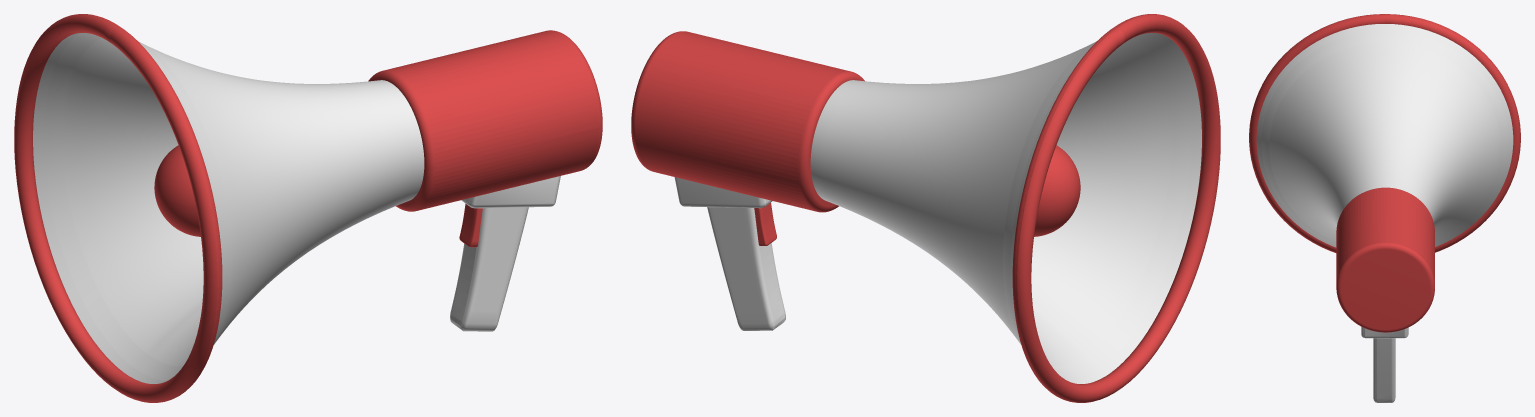
File: megaphone.glb
3 views of the same model, side by side, from view 1: azimuth 30°, elevation 25°; view 2: azimuth 150°, elevation 25°; view 3: azimuth 270°, elevation 25° (orthographic). The views are drawn at different scales.
Visible parts, largest first — view 1: 3DSMeshMatrix.005, 3DSMeshMatrix.004, 3DSMeshMatrix.006, 3DSMeshMatrix.003, 3DSMeshMatrix.001, 3DSMeshMatrix.002, 3DSMeshMatrix; view 2: 3DSMeshMatrix.005, 3DSMeshMatrix.004, 3DSMeshMatrix.006, 3DSMeshMatrix.003, 3DSMeshMatrix.001, 3DSMeshMatrix.002, 3DSMeshMatrix; view 3: 3DSMeshMatrix.005, 3DSMeshMatrix.004, 3DSMeshMatrix.006, 3DSMeshMatrix.003, 3DSMeshMatrix.002.
Boxes of the visible parts, box(x1,y1,x2,y2) form: 3DSMeshMatrix.005: box(33, 33, 424, 383); 3DSMeshMatrix.004: box(368, 30, 602, 211); 3DSMeshMatrix.006: box(14, 14, 222, 402); 3DSMeshMatrix.003: box(450, 207, 528, 331); 3DSMeshMatrix.001: box(154, 145, 200, 236); 3DSMeshMatrix.002: box(461, 176, 560, 208); 3DSMeshMatrix: box(459, 203, 482, 247); 3DSMeshMatrix.005: box(810, 33, 1201, 383); 3DSMeshMatrix.004: box(631, 31, 864, 212); 3DSMeshMatrix.006: box(1012, 14, 1220, 402); 3DSMeshMatrix.003: box(707, 207, 785, 330); 3DSMeshMatrix.001: box(1034, 145, 1080, 236); 3DSMeshMatrix.002: box(674, 177, 772, 208); 3DSMeshMatrix: box(754, 203, 776, 245); 3DSMeshMatrix.005: box(1256, 24, 1513, 247); 3DSMeshMatrix.004: box(1336, 187, 1434, 332); 3DSMeshMatrix.006: box(1249, 14, 1520, 252); 3DSMeshMatrix.003: box(1373, 338, 1395, 402); 3DSMeshMatrix.002: box(1361, 327, 1408, 338).
Bounding box in the file's own units: 11.04 × 8.92 × 8.26.
